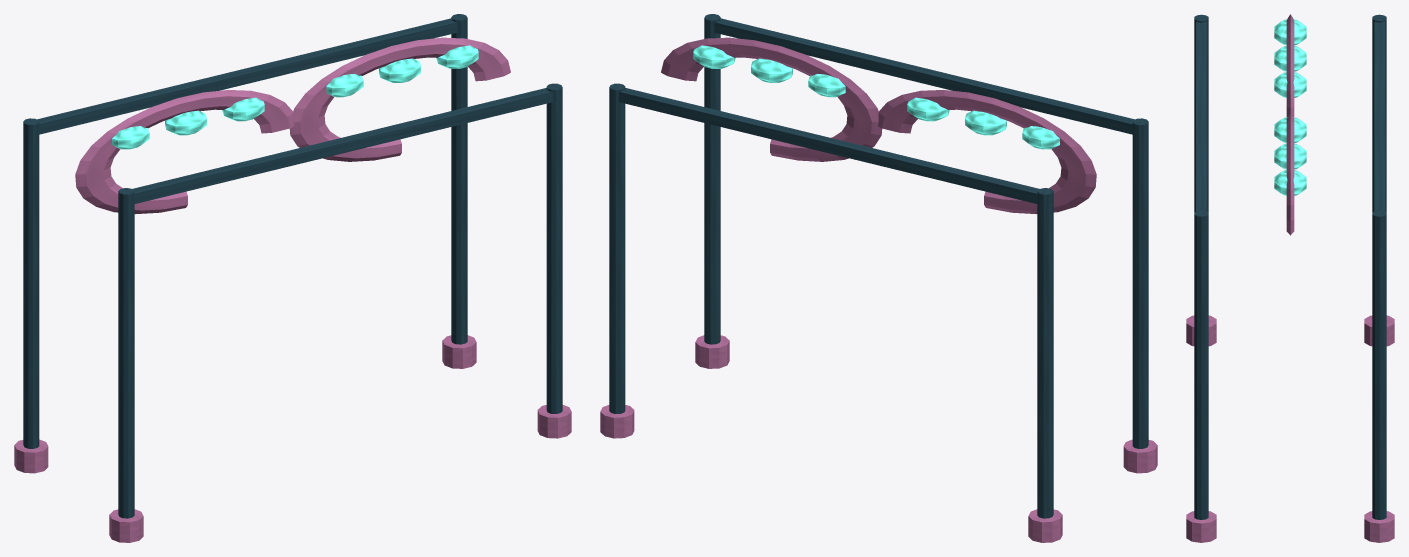
Rendered from atlas100-s061-a08.glb.
3 renders of one model, left to right at view 1: azimuth 30°, elevation 25°; view 2: azimuth 150°, elevation 25°; view 3: azimuth 270°, elevation 25°, orthographic. The views are drawn at different scales.
Parts seen in each view (by area): view 1: atlas100-s061-a08:part-009, atlas100-s061-a08:part-008, atlas100-s061-a08:part-010, atlas100-s061-a08:part-014, atlas100-s061-a08:part-002, atlas100-s061-a08:part-000, atlas100-s061-a08:part-006, atlas100-s061-a08:part-004, atlas100-s061-a08:part-003, atlas100-s061-a08:part-005, atlas100-s061-a08:part-007, atlas100-s061-a08:part-001 (+6 smaller); view 2: atlas100-s061-a08:part-008, atlas100-s061-a08:part-009, atlas100-s061-a08:part-010, atlas100-s061-a08:part-014, atlas100-s061-a08:part-000, atlas100-s061-a08:part-002, atlas100-s061-a08:part-004, atlas100-s061-a08:part-006, atlas100-s061-a08:part-001, atlas100-s061-a08:part-007, atlas100-s061-a08:part-005, atlas100-s061-a08:part-003 (+6 smaller); view 3: atlas100-s061-a08:part-004, atlas100-s061-a08:part-006, atlas100-s061-a08:part-008, atlas100-s061-a08:part-009, atlas100-s061-a08:part-000, atlas100-s061-a08:part-002, atlas100-s061-a08:part-014, atlas100-s061-a08:part-010, atlas100-s061-a08:part-005, atlas100-s061-a08:part-007, atlas100-s061-a08:part-013, atlas100-s061-a08:part-017 (+6 smaller).
Boxes of the visible parts, x1,y1,x2,y2 form: atlas100-s061-a08:part-009: (132,88,552,204); atlas100-s061-a08:part-008: (37,18,457,134); atlas100-s061-a08:part-010: (75,90,293,214); atlas100-s061-a08:part-014: (289,37,510,161); atlas100-s061-a08:part-002: (118,188,134,518); atlas100-s061-a08:part-000: (23,118,39,448); atlas100-s061-a08:part-006: (546,83,562,413); atlas100-s061-a08:part-004: (451,14,467,344); atlas100-s061-a08:part-003: (109,509,143,542); atlas100-s061-a08:part-005: (442,335,476,368); atlas100-s061-a08:part-007: (537,405,571,438); atlas100-s061-a08:part-001: (14,439,48,473); atlas100-s061-a08:part-008: (619,88,1039,204); atlas100-s061-a08:part-009: (714,18,1134,134); atlas100-s061-a08:part-010: (878,90,1096,214); atlas100-s061-a08:part-014: (661,37,882,161); atlas100-s061-a08:part-000: (1037,188,1053,518); atlas100-s061-a08:part-002: (1132,118,1148,448); atlas100-s061-a08:part-004: (609,83,625,413); atlas100-s061-a08:part-006: (704,14,720,344); atlas100-s061-a08:part-001: (1028,509,1062,542); atlas100-s061-a08:part-007: (695,335,729,368); atlas100-s061-a08:part-005: (600,405,634,438); atlas100-s061-a08:part-003: (1123,439,1157,473); atlas100-s061-a08:part-004: (1372,210,1386,519); atlas100-s061-a08:part-006: (1194,210,1208,519); atlas100-s061-a08:part-008: (1374,21,1384,211); atlas100-s061-a08:part-009: (1196,21,1206,211); atlas100-s061-a08:part-000: (1372,14,1386,212); atlas100-s061-a08:part-002: (1194,14,1208,212); atlas100-s061-a08:part-014: (1286,112,1294,235); atlas100-s061-a08:part-010: (1286,14,1294,116); atlas100-s061-a08:part-005: (1364,511,1394,542); atlas100-s061-a08:part-007: (1186,511,1216,542); atlas100-s061-a08:part-013: (1274,72,1306,97); atlas100-s061-a08:part-017: (1274,170,1306,195).
Bounding box in the file's own units: 5.56 × 4.4 × 2.34.
3 materials, 3 textured.
